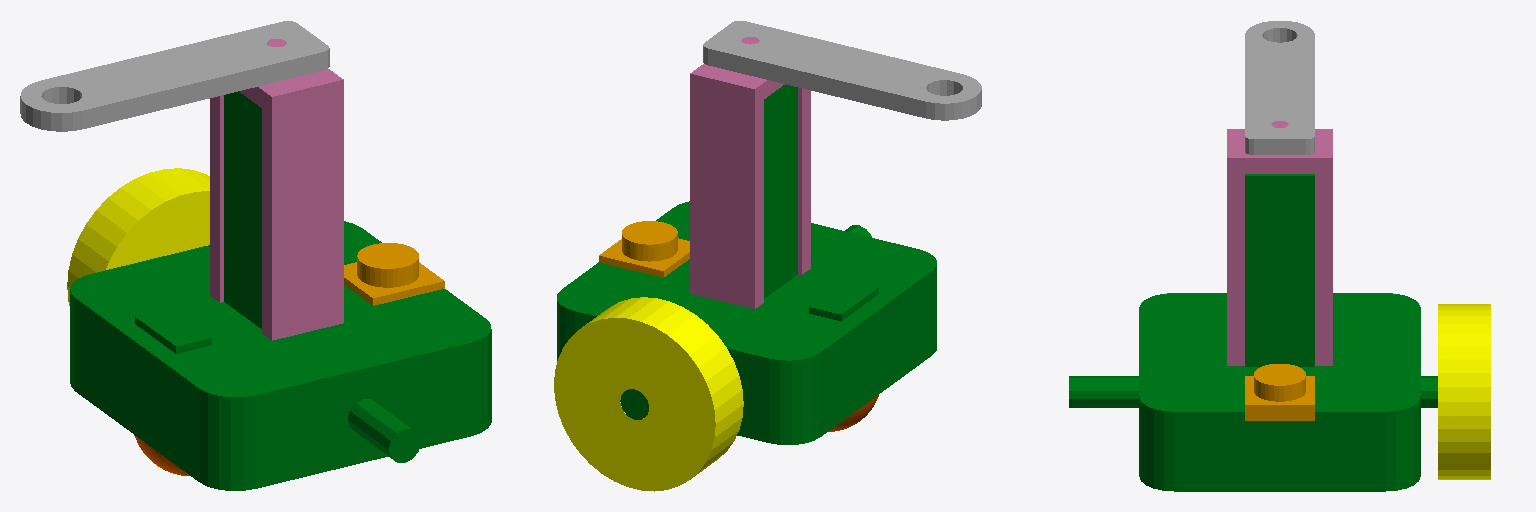
robot.urdf — robot:
<?xml version="1.0"?>
<robot name="robot">

  <link name="base_footprint"/>
  <joint name="base_joint" type="fixed">
    <parent link="base_footprint"/>
    <child link="base_link"/>
    <origin xyz="0 0 0.035" rpy="0 0 0"/>
  </joint>

  <link name="base_link">
    <inertial>
      <origin xyz="-9.9541E-05 0 -0.0068351" rpy="0 0 0" />
      <mass value="0.18913" />
      <inertia ixx="0.00010688" ixy="0" ixz="2.0217E-07" iyy="9.6933E-05" iyz="0" izz="0.00017249" />
    </inertial>
    <visual>
      <geometry>
        <mesh filename="package://my_robot_pkg/meshes/base_link.STL" />
      </geometry>
      <material name="green">
        <color rgba="0 0.51373 0.11373 1" />
      </material>
    </visual>
    <collision>
      <geometry>
        <mesh filename="package://my_robot_pkg/meshes/base_link.STL" />
      </geometry>
    </collision>
  </link>
  <gazebo reference="base_link">
    <material>Gazebo/Green</material>
  </gazebo>

  <link name="wheel_right">
    <inertial>
      <mass value="0.029068" />
      <inertia ixx="5.2341E-06" ixy="0" ixz="0" iyy="9.3781E-06" iyz="0" izz="5.2341E-06" />
    </inertial>
    <visual>
      <geometry>
        <mesh filename="package://my_robot_pkg/meshes/wheel_right.STL" />
      </geometry>
      <material name="yellow"><color rgba="1 1 0 1" /></material>
    </visual>
    <collision>
      <geometry>
        <mesh filename="package://my_robot_pkg/meshes/wheel_right.STL" />
      </geometry>
    </collision>
  </link>
  <joint name="wheel_right_joint" type="continuous">
    <origin xyz="0.0011238 -0.0525 -0.0125" rpy="0 0 0" />
    <parent link="base_link" />
    <child link="wheel_right" />
    <axis xyz="0 1 0" />
  </joint>
  <gazebo reference="wheel_right">
    <material>Gazebo/Yellow</material>
    <mu1 value="1.0"/><mu2 value="1.0"/>
  </gazebo>

  <link name="wheel_left">
    <inertial>
      <mass value="0.029068" />
      <inertia ixx="5.2341E-06" ixy="0" ixz="0" iyy="9.3781E-06" iyz="0" izz="5.2341E-06" />
    </inertial>
    <visual>
      <geometry>
        <mesh filename="package://my_robot_pkg/meshes/wheel_left.STL" />
      </geometry>
      <material name="yellow"><color rgba="1 1 0 1" /></material>
    </visual>
    <collision>
      <geometry>
        <mesh filename="package://my_robot_pkg/meshes/wheel_left.STL" />
      </geometry>
    </collision>
  </link>
  <joint name="wheel_left_joint" type="continuous">
    <origin xyz="0.0011238 0.0525 -0.0125" rpy="0 0 0" />
    <parent link="base_link" />
    <child link="wheel_left" />
    <axis xyz="0 1 0" />
  </joint>
  <gazebo reference="wheel_left">
    <material>Gazebo/Yellow</material>
    <mu1 value="1.0"/><mu2 value="1.0"/>
  </gazebo>

  <gazebo reference="o_wheel_1">
    <material>Gazebo/Grey</material>
    <mu1 value="0.001"/><mu2 value="0.001"/>
  </gazebo>
  <gazebo reference="o_wheel_2">
    <material>Gazebo/Grey</material>
    <mu1 value="0.001"/><mu2 value="0.001"/>
  </gazebo>

  <link name="o_wheel_2">
    <inertial>
      <origin xyz="0 0 -0.0054375" rpy="0 0 0" /><mass value="0.045334" />
      <inertia ixx="2.4722E-06" ixy="0" ixz="0" iyy="2.4722E-06" iyz="0" izz="3.8126E-06" />
    </inertial>
    <visual>
      <geometry><mesh filename="package://my_robot_pkg/meshes/o_wheel_2.STL" /></geometry>
    </visual>
    <collision>
      <geometry><mesh filename="package://my_robot_pkg/meshes/o_wheel_2.STL" /></geometry>
    </collision>
  </link>
  <joint name="o_wheel_2_point" type="fixed">
    <origin xyz="0.026124 0 -0.023" rpy="0 0 0" />
    <parent link="base_link" /><child link="o_wheel_2" />
  </joint>

  <link name="o_wheel_1">
    <inertial>
      <origin xyz="0 0 -0.0054375" rpy="0 0 0" /><mass value="0.045334" />
      <inertia ixx="2.4722E-06" ixy="0" ixz="0" iyy="2.4722E-06" iyz="0" izz="3.8126E-06" />
    </inertial>
    <visual>
      <geometry><mesh filename="package://my_robot_pkg/meshes/o_wheel_1.STL" /></geometry>
    </visual>
    <collision>
      <geometry><mesh filename="package://my_robot_pkg/meshes/o_wheel_1.STL" /></geometry>
    </collision>
  </link>
  <joint name="o_wheel_1_point" type="fixed">
    <origin xyz="-0.023876 0 -0.023" rpy="0 0 0" />
    <parent link="base_link" /><child link="o_wheel_1" />
  </joint>

  <link name="link1">
    <inertial>
      <origin xyz="0 0 0" rpy="0 0 0" /><mass value="0.1" />
      <inertia ixx="0.001" ixy="0" ixz="0" iyy="7.4184E-06" iyz="0" izz="2.799E-06" />
    </inertial>
    <visual>
      <geometry><mesh filename="package://my_robot_pkg/meshes/link1.STL" /></geometry>
    </visual>
    <collision>
      <geometry><mesh filename="package://my_robot_pkg/meshes/link1.STL" /></geometry>
    </collision>
  </link>
  <joint name="link1_joint" type="prismatic">
    <origin xyz="0 0 0" rpy="0 0 0" />
    <parent link="base_link" /><child link="link1" />
    <axis xyz="0 0 1" />
    <limit lower="0" upper="0.06" effort="1000" velocity="10.0" />
  </joint>
  <gazebo reference="link1">
    <material>Gazebo/Yellow</material>
    <mu1 value="1.0"/><mu2 value="1.0"/>
    <turnGravityOff>true</turnGravityOff>
  </gazebo>

  <link name="link2">
    <inertial>
      <origin xyz="-0.027746 0 0" rpy="0 0 0" /><mass value="0.1" />
      <inertia ixx="0.001" ixy="0" ixz="0" iyy="3.5422E-06" iyz="0" izz="3.7809E-06" />
    </inertial>
    <visual>
      <geometry><mesh filename="package://my_robot_pkg/meshes/link2.STL" /></geometry>
    </visual>
    <collision>
      <geometry><mesh filename="package://my_robot_pkg/meshes/link2.STL" /></geometry>
    </collision>
  </link>
  <joint name="link2_joint" type="revolute">
    <origin xyz="0 0 0.0685" rpy="0 0 0" />
    <parent link="link1" /><child link="link2" />
    <axis xyz="0 0 1" />
    <limit lower="-3.14" upper="3.14" effort="1000" velocity="10.0" />
    <dynamics damping="0.1" friction="0.05"/>
  </joint>
  <gazebo reference="link2">
    <material>Gazebo/Yellow</material>
    <mu1 value="1.0"/><mu2 value="1.0"/>
  </gazebo>

  <link name="lidar">
    <inertial>
      <origin xyz="0 0 -0.0034679" rpy="0 0 0" /><mass value="0.020473" />
      <inertia ixx="7.1298E-07" ixy="0" ixz="0" iyy="7.1298E-07" iyz="0" izz="1.1231E-06" />
    </inertial>
    <visual>
      <geometry><mesh filename="package://my_robot_pkg/meshes/lidar.STL" /></geometry>
    </visual>
    <collision>
      <geometry><mesh filename="package://my_robot_pkg/meshes/lidar.STL" /></geometry>
    </collision>
  </link>
  <joint name="lidar_joint" type="fixed">
    <origin xyz="0.031124 0 0.0045" rpy="0 0 0" />
    <parent link="base_link" /><child link="lidar" />
  </joint>
  <gazebo reference="lidar">
    <material>Gazebo/Red</material>
    <mu1 value="1.0"/><mu2 value="1.0"/>
  </gazebo>

  <gazebo>
    <plugin name="diff_drive" filename="libgazebo_ros_diff_drive.so">
      <left_joint>wheel_left_joint</left_joint>
      <right_joint>wheel_right_joint</right_joint>
      <wheel_separation>0.105</wheel_separation>
      <wheel_diameter>0.025</wheel_diameter>
      <publish_odom>true</publish_odom>
      <publish_odom_tf>true</publish_odom_tf>
      <publish_wheel_tf>true</publish_wheel_tf>
      <odometry_frame>odom</odometry_frame>
      <robot_base_frame>base_footprint</robot_base_frame>
    </plugin>

    <plugin name="joint_state" filename="libgazebo_ros_joint_state_publisher.so">
      <ros><remapping>~/out:=joint_states</remapping></ros>
      <update_rate>30</update_rate>
      <joint_name>wheel_left_joint</joint_name>
      <joint_name>wheel_right_joint</joint_name>
      <joint_name>link1_joint</joint_name>
      <joint_name>link2_joint</joint_name>
    </plugin>

    <plugin name="gazebo_ros_joint_pose_trajectory" filename="libgazebo_ros_joint_pose_trajectory.so">
      <ros>
        <remapping>set_joint_trajectory:=/set_joint_trajectory</remapping>
      </ros>
      <update_rate>20</update_rate>
      <frame_id>base_footprint</frame_id>
      <joint_name>link1_joint</joint_name>
      <joint_name>link2_joint</joint_name>
    </plugin>
  </gazebo>
  <gazebo reference="lidar">
    <sensor name="lidar" type="ray">
      <pose>0 0 0 0 0 0</pose>
      <visualize>true</visualize> <update_rate>10</update_rate>
      <ray>
        <scan>
          <horizontal>
            <samples>360</samples>
            <resolution>1</resolution>
            <min_angle>-3.14</min_angle>
            <max_angle>3.14</max_angle>
          </horizontal>
        </scan>
        <range>
          <min>0.1</min>
          <max>12.0</max>
          <resolution>0.01</resolution>
        </range>
      </ray>
      <plugin name="laser_controller" filename="libgazebo_ros_ray_sensor.so">
        <ros>
          <argument>~/out:=scan</argument>
        </ros>
        <output_type>sensor_msgs/LaserScan</output_type>
        <frame_name>lidar</frame_name>
      </plugin>
    </sensor>
  </gazebo>
  <gazebo reference="base_link">
    <sensor name="imu_sensor" type="imu">
      <always_on>true</always_on>
      <update_rate>100</update_rate>
      <visualize>true</visualize>
      <plugin name="imu_plugin" filename="libgazebo_ros_imu_sensor.so">
        <ros>
          <remapping>~/out:=imu</remapping>
        </ros>
      </plugin>
    </sensor>
  </gazebo>
</robot>

--- What the picture shows (computed from the rendered views, not written in the file) ---
The picture shows the robot from 3 angles, left to right: view 1: azimuth 30°, elevation 25°; view 2: azimuth 150°, elevation 25°; view 3: azimuth 270°, elevation 25°; orthographic projection.
Robot: robot — 9 links, 8 joints (1 revolute, 2 continuous, 1 prismatic, 4 fixed); root link base_footprint; default pose: every joint at zero.
Links seen in each view (by area): view 1: base_link, link1, link2, wheel_left, lidar, o_wheel_1; view 2: base_link, wheel_left, link1, link2, lidar; view 3: base_link, link1, wheel_left, link2, lidar.
Boxes of the visible links, left/top/right/bottom form: base_link: left=70, top=91, right=491, bottom=490; link1: left=210, top=39, right=343, bottom=340; link2: left=20, top=21, right=329, bottom=131; wheel_left: left=67, top=168, right=209, bottom=305; lidar: left=344, top=243, right=444, bottom=305; o_wheel_1: left=134, top=435, right=189, bottom=475; base_link: left=557, top=84, right=936, bottom=444; wheel_left: left=554, top=297, right=743, bottom=491; link1: left=690, top=37, right=810, bottom=308; link2: left=703, top=21, right=981, bottom=120; lidar: left=599, top=221, right=689, bottom=277; base_link: left=1069, top=174, right=1437, bottom=491; link1: left=1227, top=121, right=1332, bottom=365; wheel_left: left=1438, top=304, right=1490, bottom=479; link2: left=1245, top=21, right=1314, bottom=154; lidar: left=1245, top=364, right=1314, bottom=420.
Bounding box of the posed robot: 0.1111 × 0.12 × 0.1085 m (x, y, z).
Meshes: 8 distinct files referenced, 6 mesh visuals loaded (6 binary STL); not drawn: 2 (reference not matched to a file when rendering).
